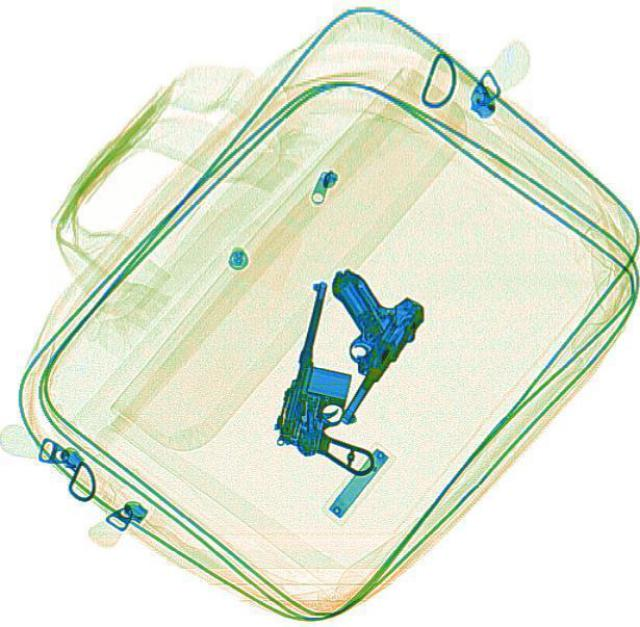Gun: (266, 276, 416, 475), (262, 260, 430, 425)
